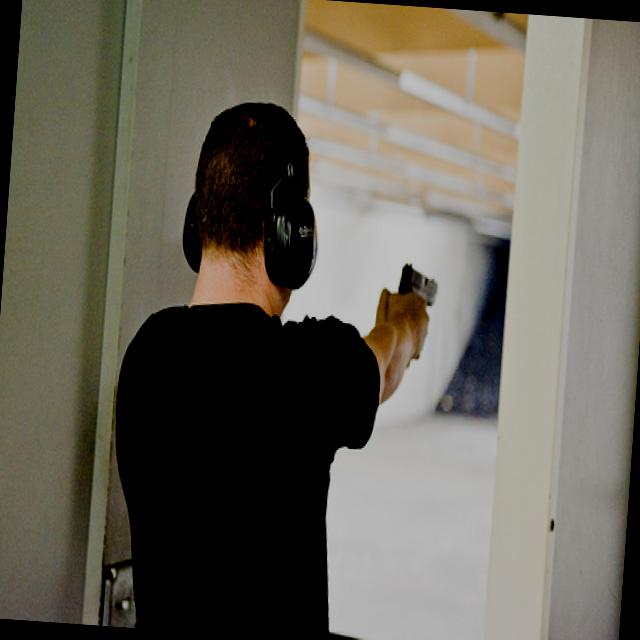handgun: (393, 258, 438, 324)
